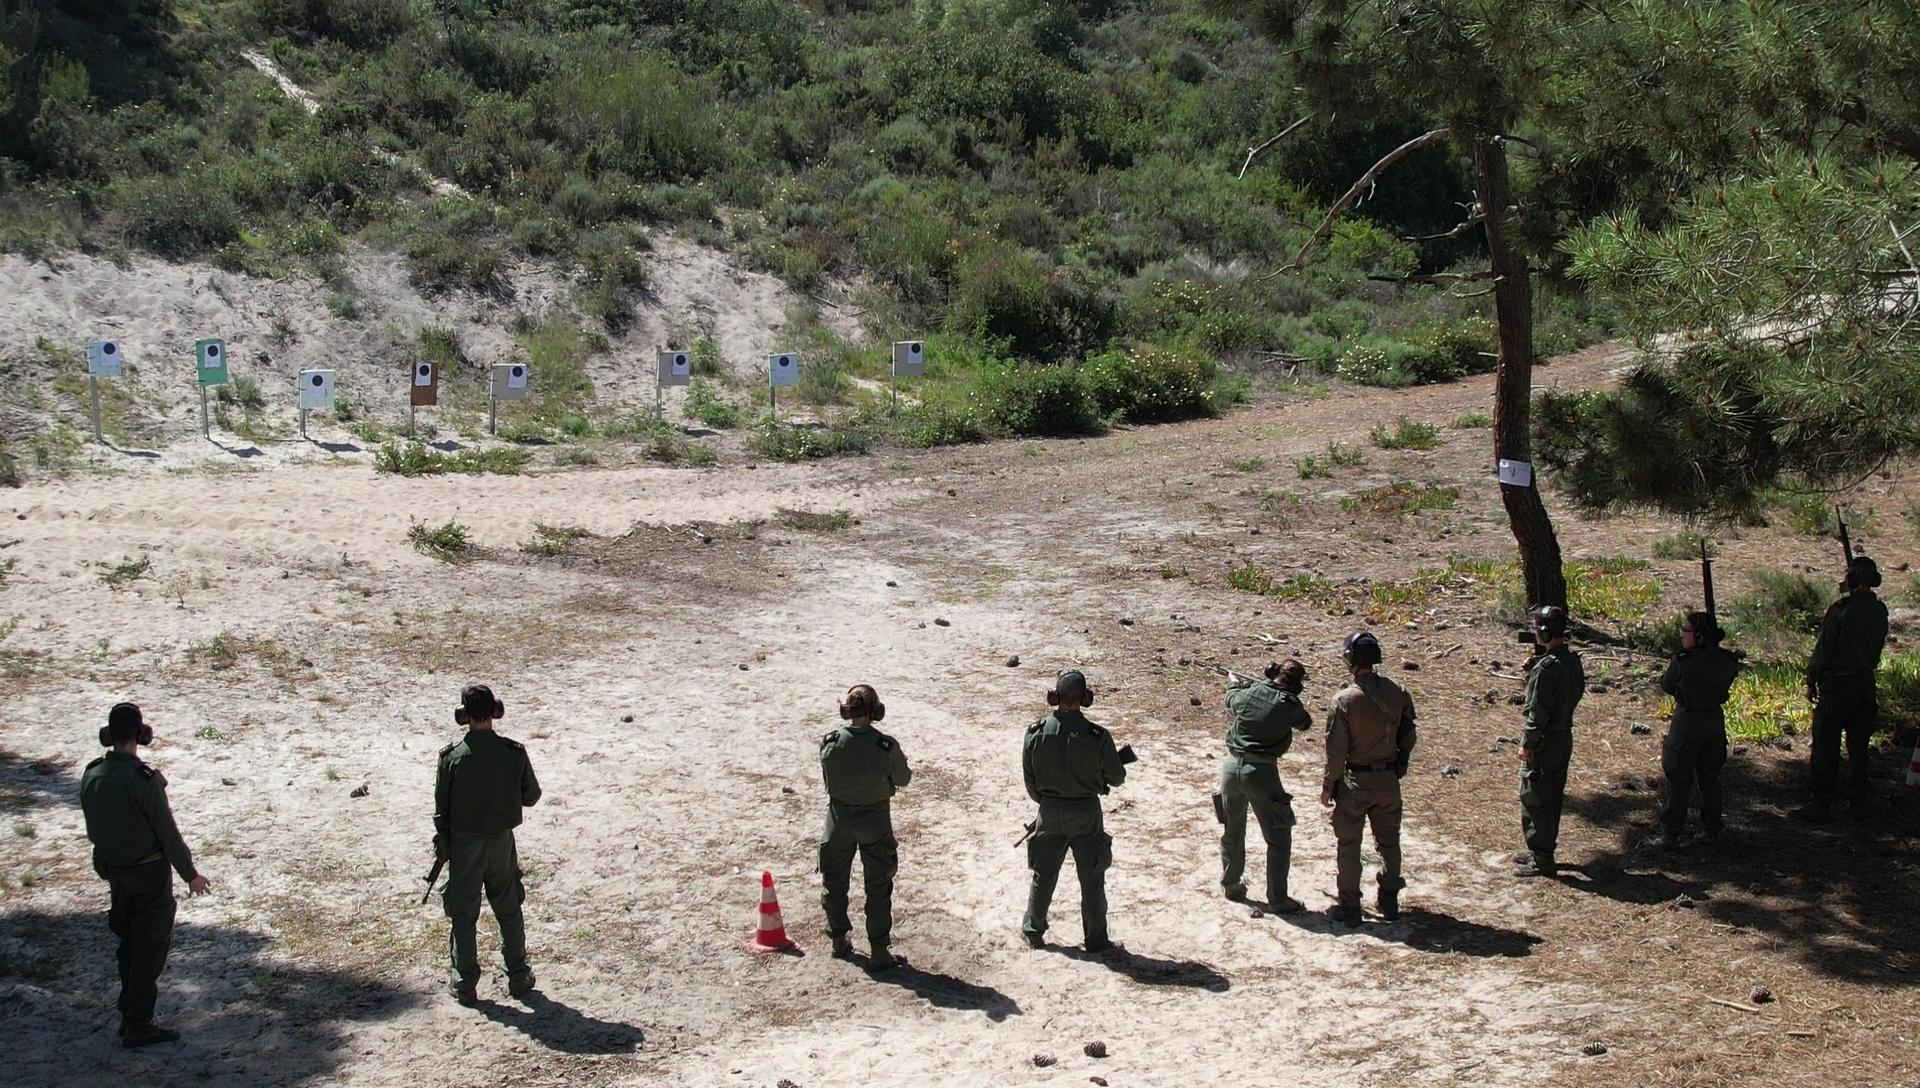Soldier: (397, 662, 571, 1029), (58, 710, 225, 1071), (1648, 530, 1785, 882), (1300, 640, 1445, 946), (796, 680, 934, 1000), (1005, 658, 1142, 971), (1797, 505, 1916, 830), (1203, 626, 1327, 930), (1494, 567, 1613, 870)
